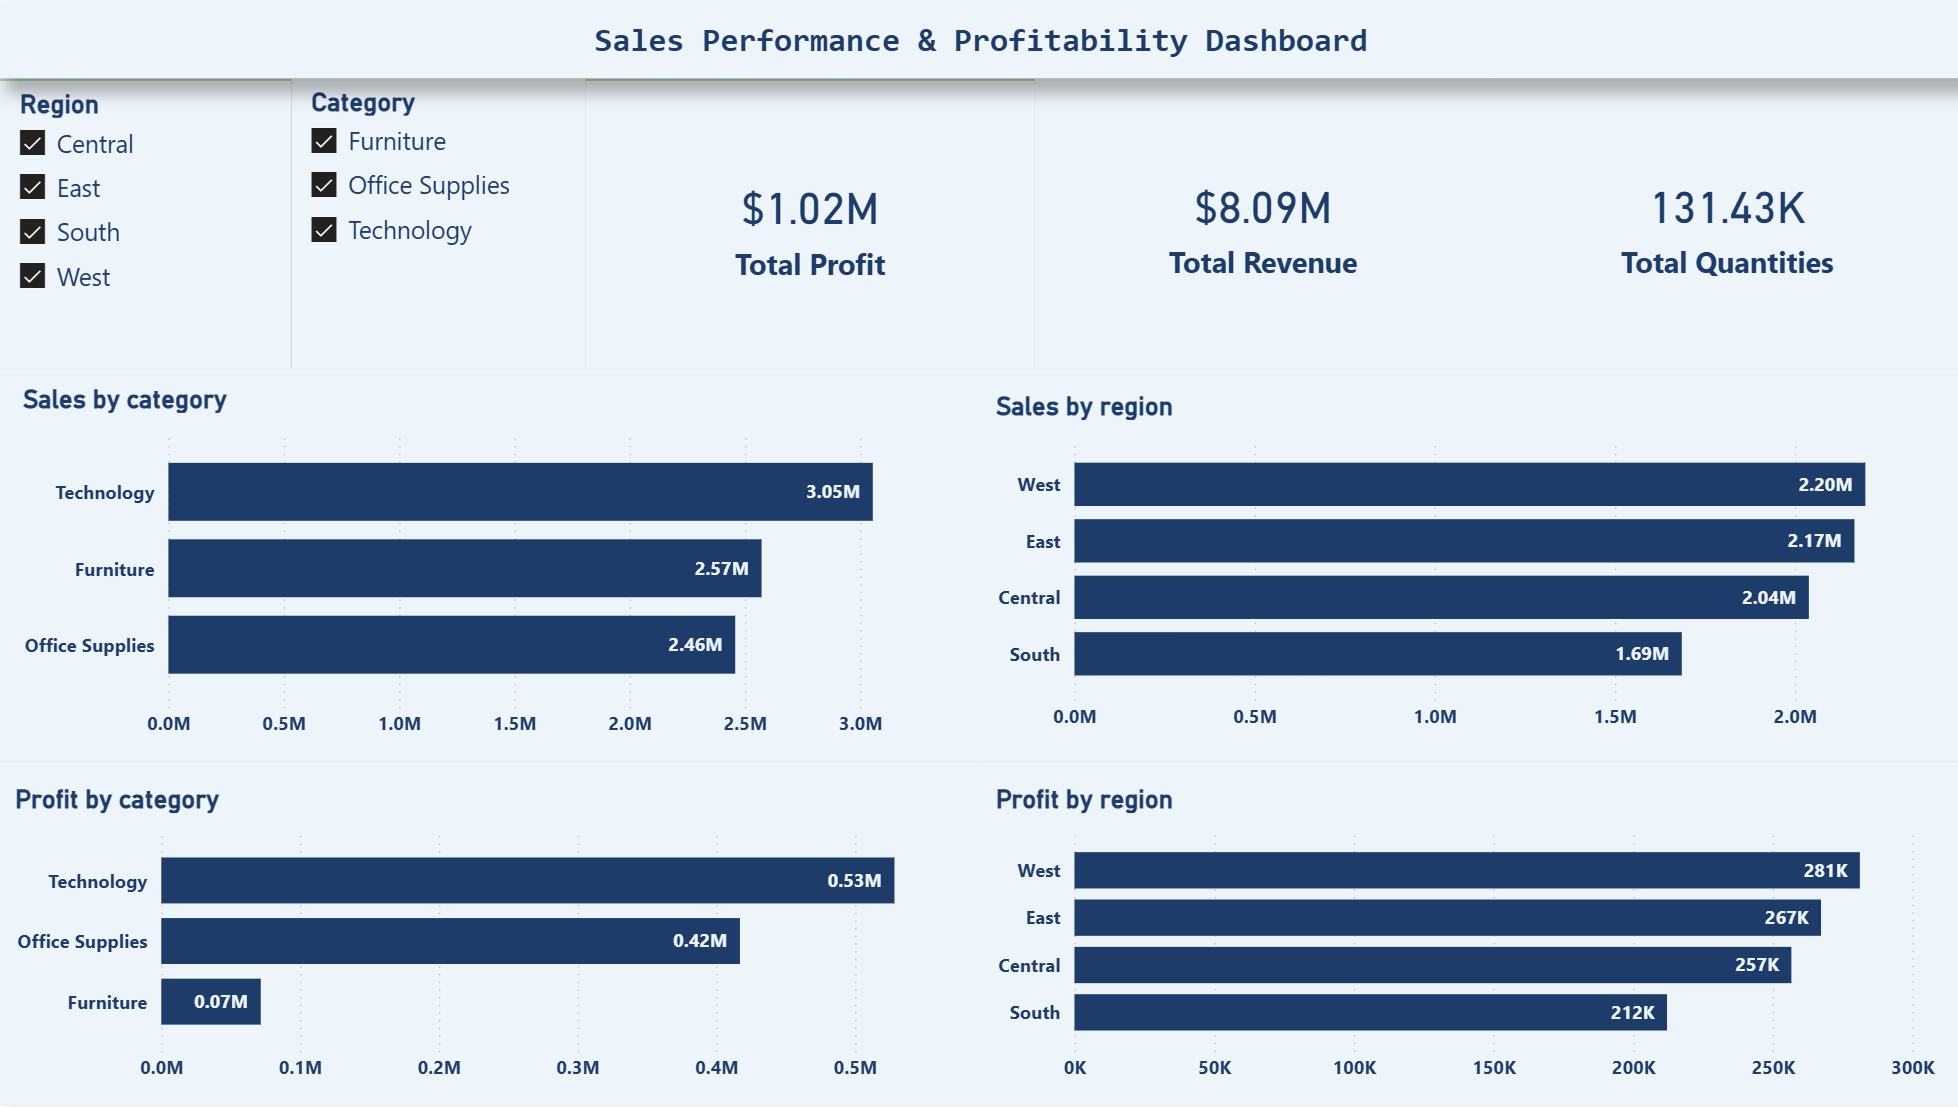

The dashboard page shown, as its layout file describes it:
{"tool":"powerbi","page":{"name":"Page 1","canvas":[1280,720],"ordinal":0},"visuals":[{"type":"card","fields":{"Values":["sales_db sales_summary.Total Revenue"]},"box":[674,50.2,297.8,188.7],"z":0},{"type":"card","fields":{"Values":["sales_db sales_summary.Total Profit"]},"box":[381.7,52.1,293,187.3],"z":1000},{"type":"card","fields":{"Values":["sales_db sales_summary.Total Quantities"]},"box":[971.2,50.2,308.8,188.7],"z":2000},{"type":"barChart","title":"Sales by category","fields":{"Category":["sales_db sales_summary.category"],"Y":["Sum(sales_db sales_summary.sales)"]},"box":[0,239.3,639.6,256.4],"z":3000},{"type":"barChart","title":"Sales by region","fields":{"Category":["sales_db sales_summary.region"],"Y":["Sum(sales_db sales_summary.sales)"]},"box":[639.6,239.3,641,256.4],"z":4000},{"type":"barChart","title":"Profit by category","fields":{"Category":["sales_db sales_summary.category"],"Y":["Sum(sales_db sales_summary.profit)"]},"box":[0,496.3,639.7,224.2],"z":5000},{"type":"barChart","title":"Profit by region","fields":{"Category":["sales_db sales_summary.region"],"Y":["Sum(sales_db sales_summary.profit)"]},"box":[640,496,640,224],"z":6000},{"type":"slicer","fields":{"Values":["sales_db sales_summary.region"]},"box":[0,51.5,189.9,187.5],"z":7000},{"type":"slicer","fields":{"Values":["sales_db sales_summary.category"]},"box":[190.1,50.7,191.5,188.7],"z":8000},{"type":"textbox","box":[0,0,1279.3,50.2],"z":9000}]}

Visuals, with their boxes in screenshot pixels (x1, y1, x2, y2), scaled from the page's 1280x720 canvas onto the 1958x1107 screenshot:
card - sales_db sales_summary.Total Revenue: [1031,77,1487,367]
card - sales_db sales_summary.Total Profit: [584,80,1032,368]
card - sales_db sales_summary.Total Quantities: [1486,77,1957,367]
"Sales by category" barChart: [0,368,978,762]
"Sales by region" barChart: [978,368,1957,762]
"Profit by category" barChart: [0,763,979,1106]
"Profit by region" barChart: [979,763,1957,1106]
slicer - sales_db sales_summary.region: [0,79,290,367]
slicer - sales_db sales_summary.category: [291,78,584,368]
textbox: [0,0,1957,77]
